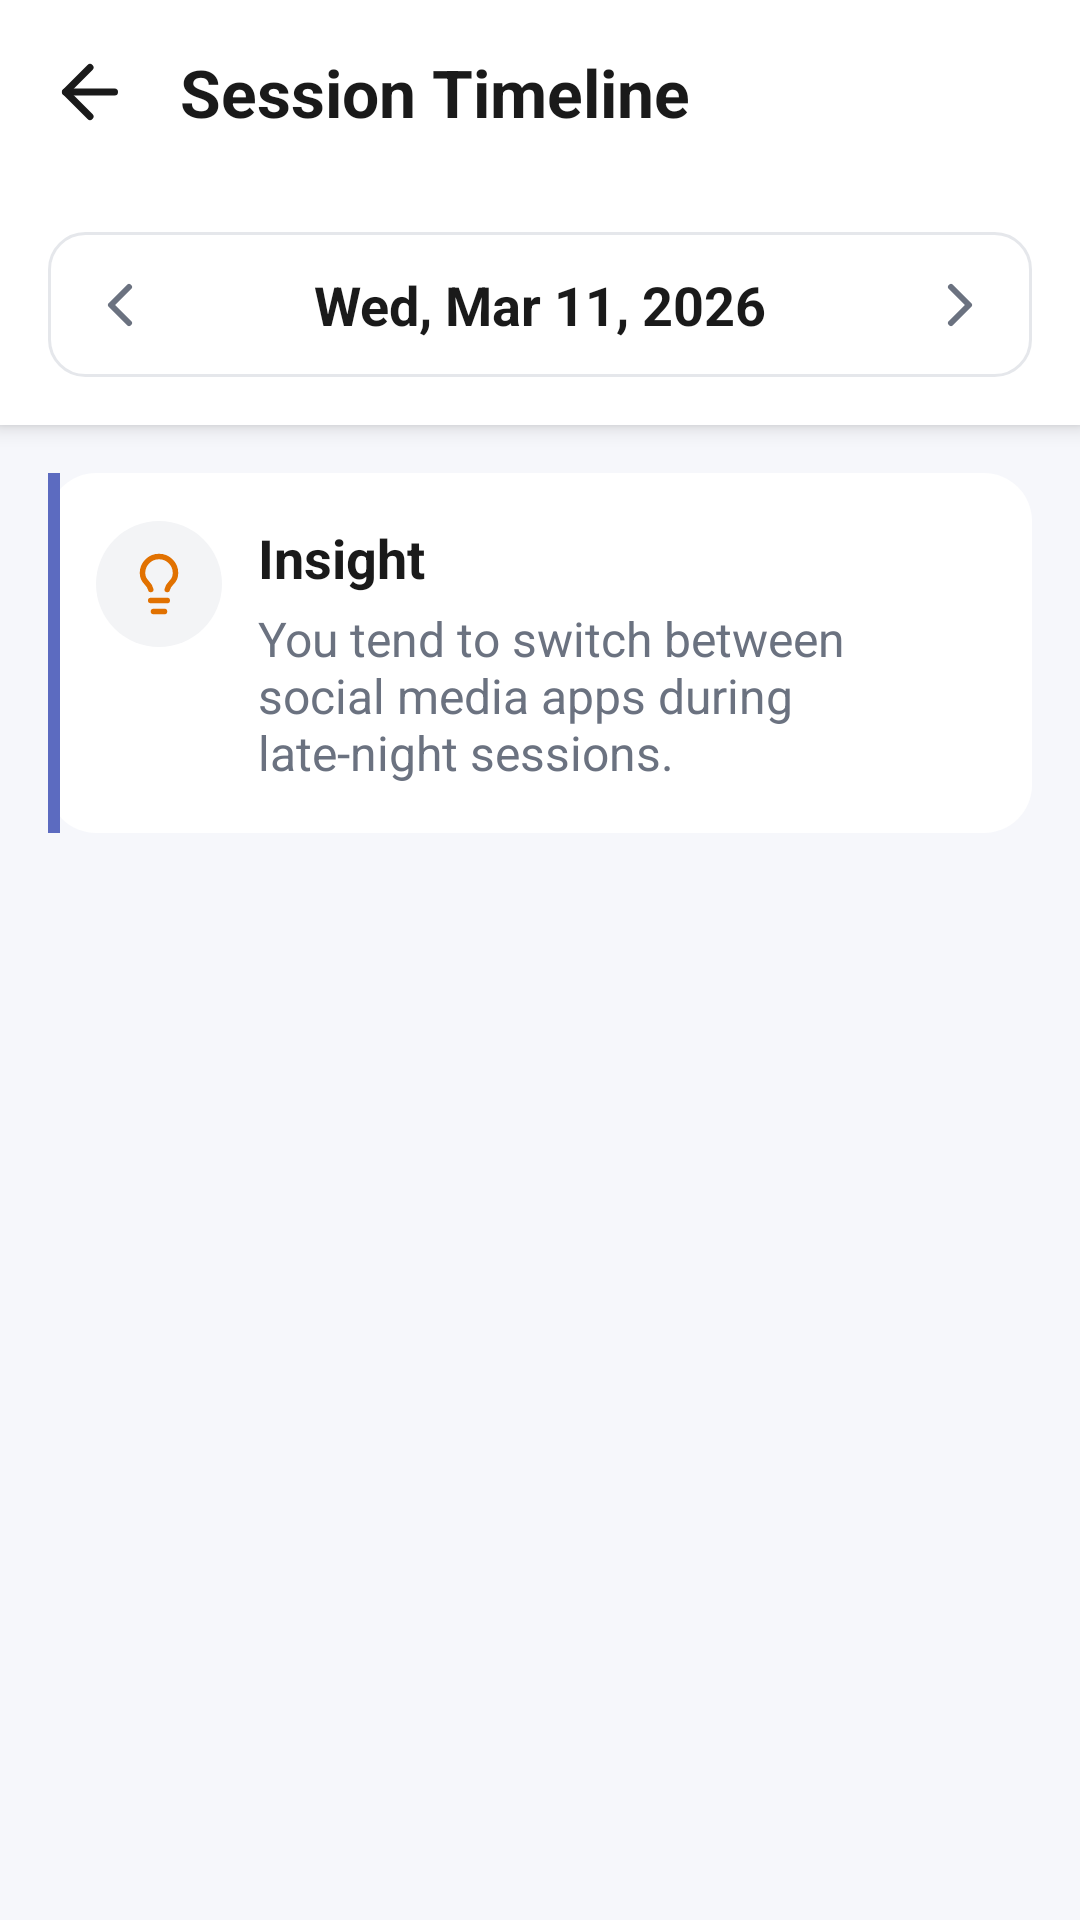

Icon click points for this 1080w x 1920h phone screenshot, format point (x, y):
arrow left: point (90, 92)
chevron left: point (120, 305)
chevron right: point (960, 305)
lightbulb: point (159, 584)
